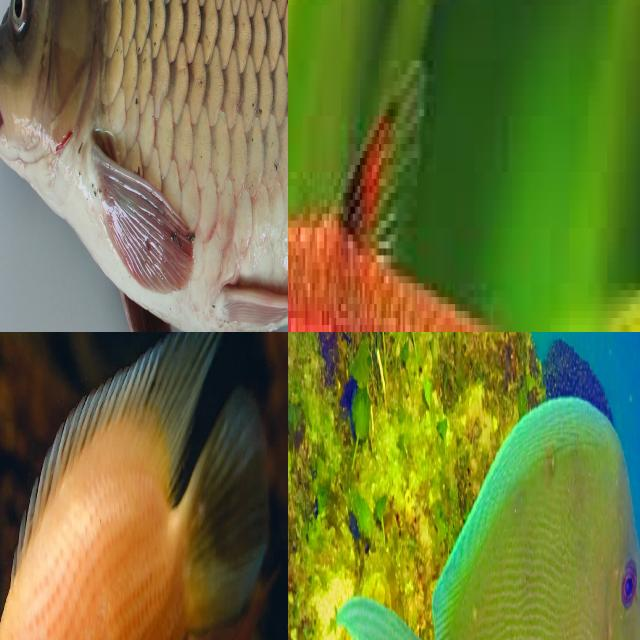fish: (288, 53, 640, 332), (0, 0, 288, 332), (288, 376, 622, 640), (0, 410, 210, 640)
